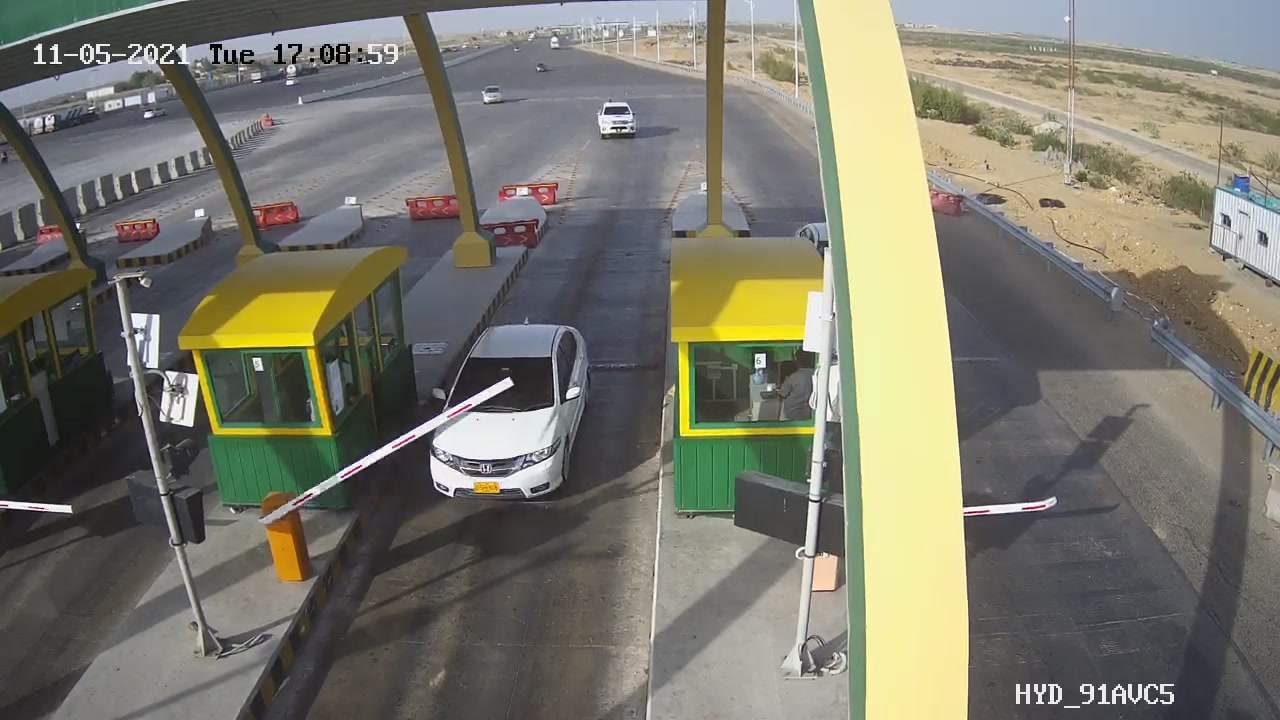F1: (407, 308, 614, 524)
